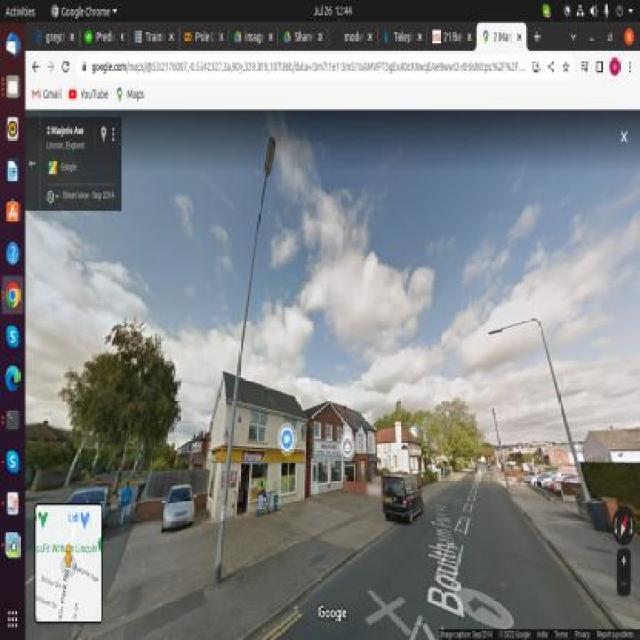pole: (210, 144, 281, 596), (531, 302, 583, 508), (489, 405, 514, 492)
